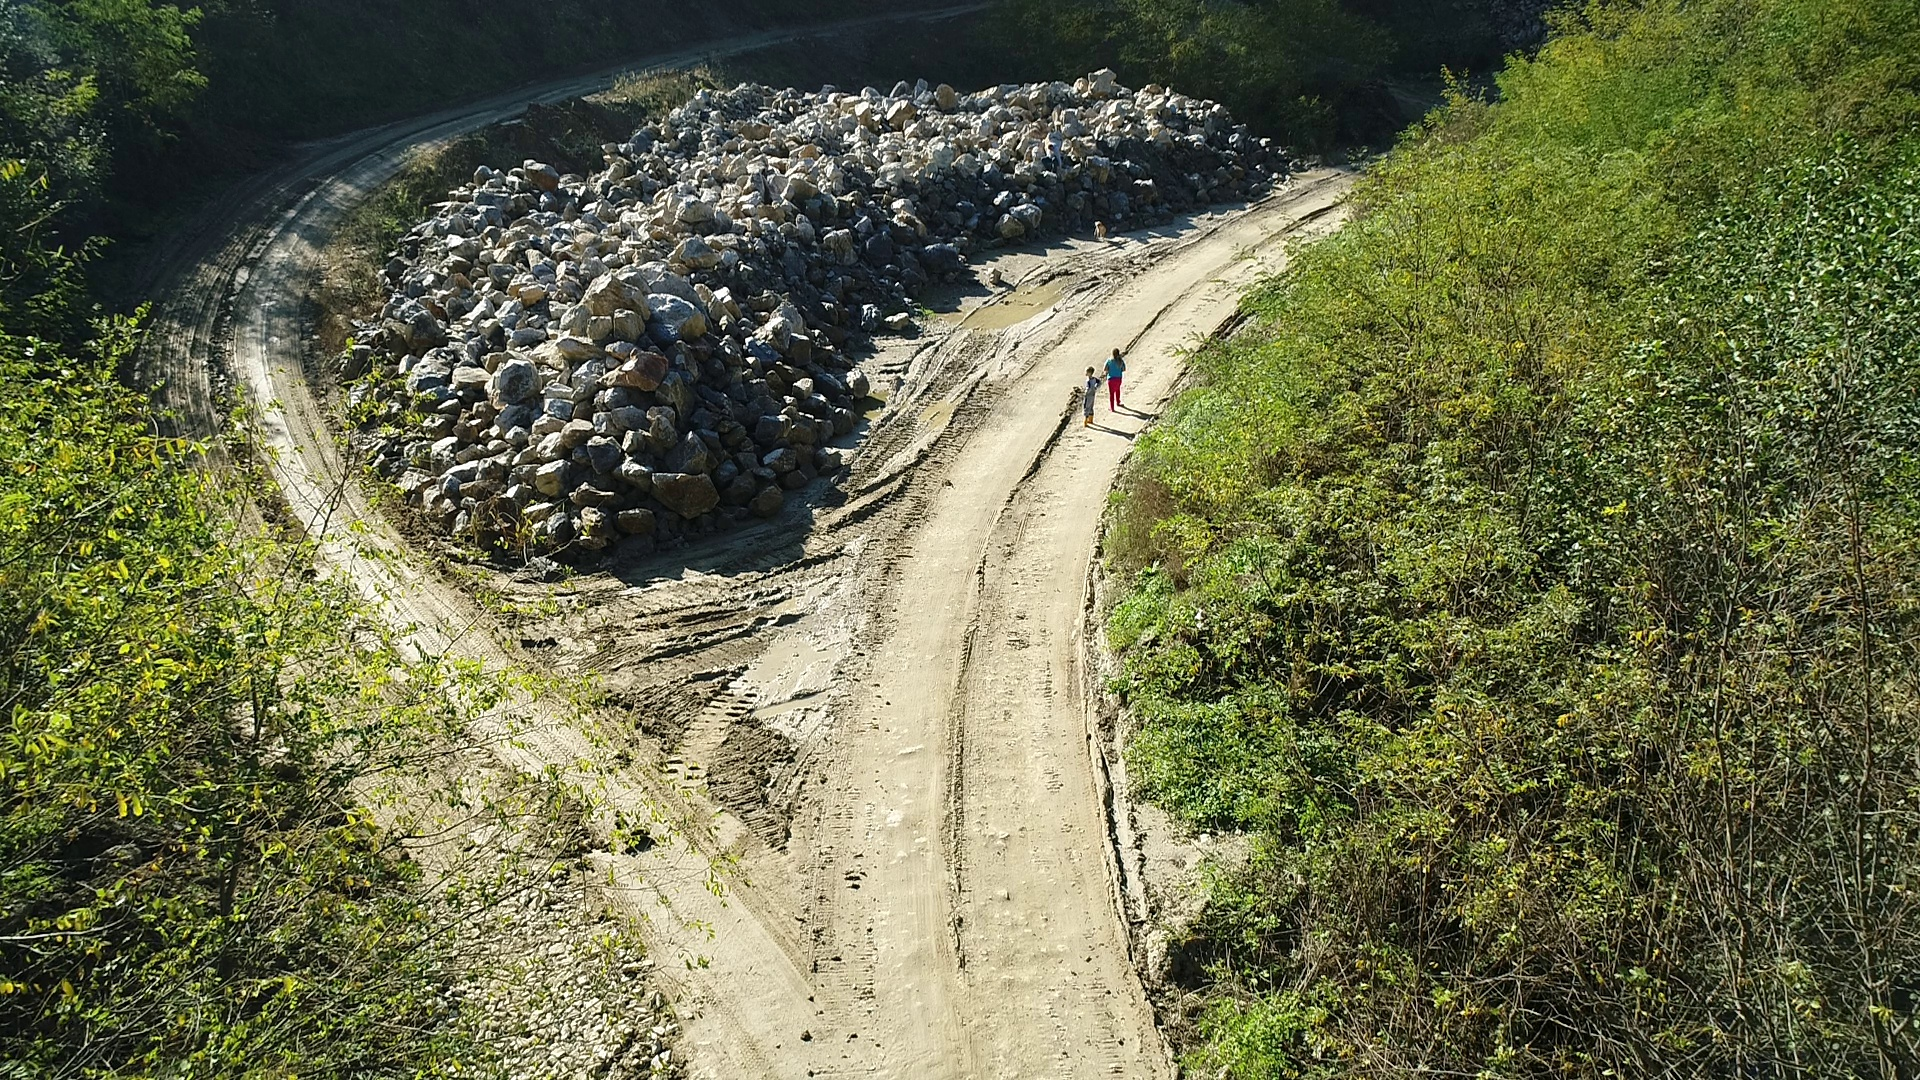person: (1104, 347, 1126, 414), (1079, 365, 1101, 428), (1041, 142, 1062, 173)
